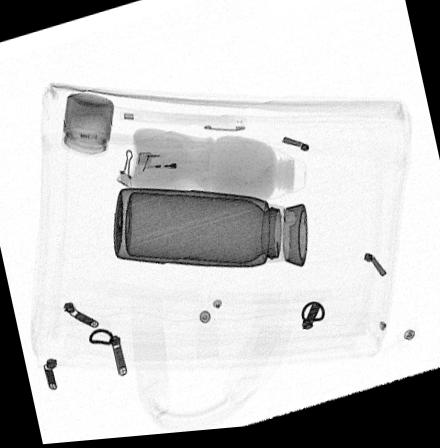Lighter: (137, 152, 208, 175)
